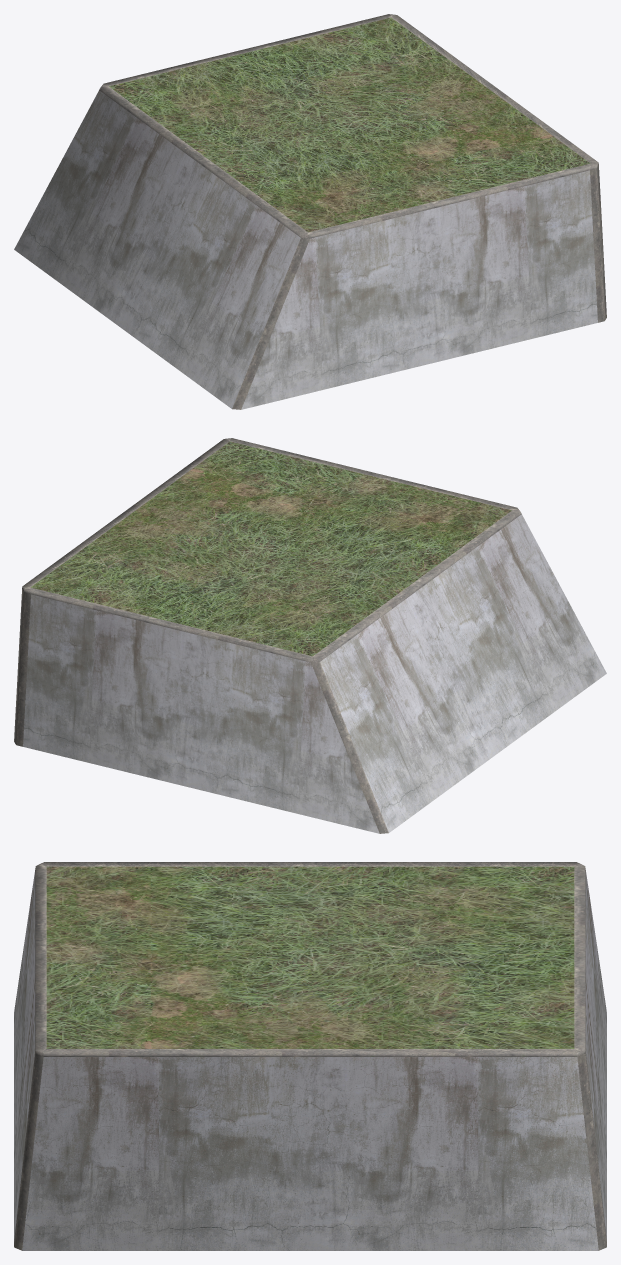
The model's file is JpHouseJ_StoneWall_01d.fbx.
3 views of the same model, one above another, from view 1: azimuth 30°, elevation 25°; view 2: azimuth 150°, elevation 25°; view 3: azimuth 270°, elevation 25° (orthographic). The views are drawn at different scales.
Visible parts, largest first — view 1: JpHouseJ_StoneWall_01d; view 2: JpHouseJ_StoneWall_01d; view 3: JpHouseJ_StoneWall_01d.
Boxes of the visible parts, x1,y1,x2,y2 form: JpHouseJ_StoneWall_01d: (14,14,606,409); JpHouseJ_StoneWall_01d: (14,438,606,833); JpHouseJ_StoneWall_01d: (14,862,606,1250).
Bounding box in the file's own units: 10.53 × 4 × 10.9.
